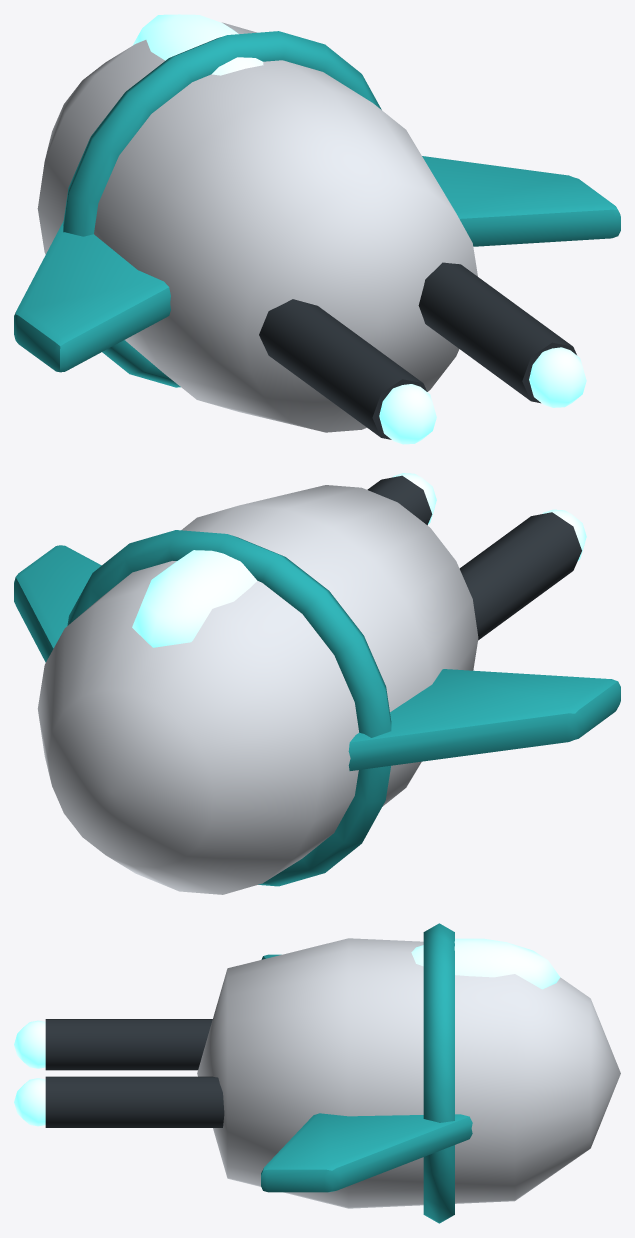
File: pod_rear.glb
The picture shows the model from 3 angles, top to bottom: view 1: azimuth 30°, elevation 25°; view 2: azimuth 150°, elevation 25°; view 3: azimuth 270°, elevation 25°; orthographic projection. The views are drawn at different scales.
Parts seen in each view (by area): view 1: pod_rear; view 2: pod_rear; view 3: pod_rear.
Part boxes in pixels (left/top/right/bottom): pod_rear: left=14, top=14, right=620, bottom=444; pod_rear: left=14, top=473, right=620, bottom=894; pod_rear: left=14, top=923, right=620, bottom=1223.
Bounding box in the file's own units: 0.34 × 0.2 × 0.401.
